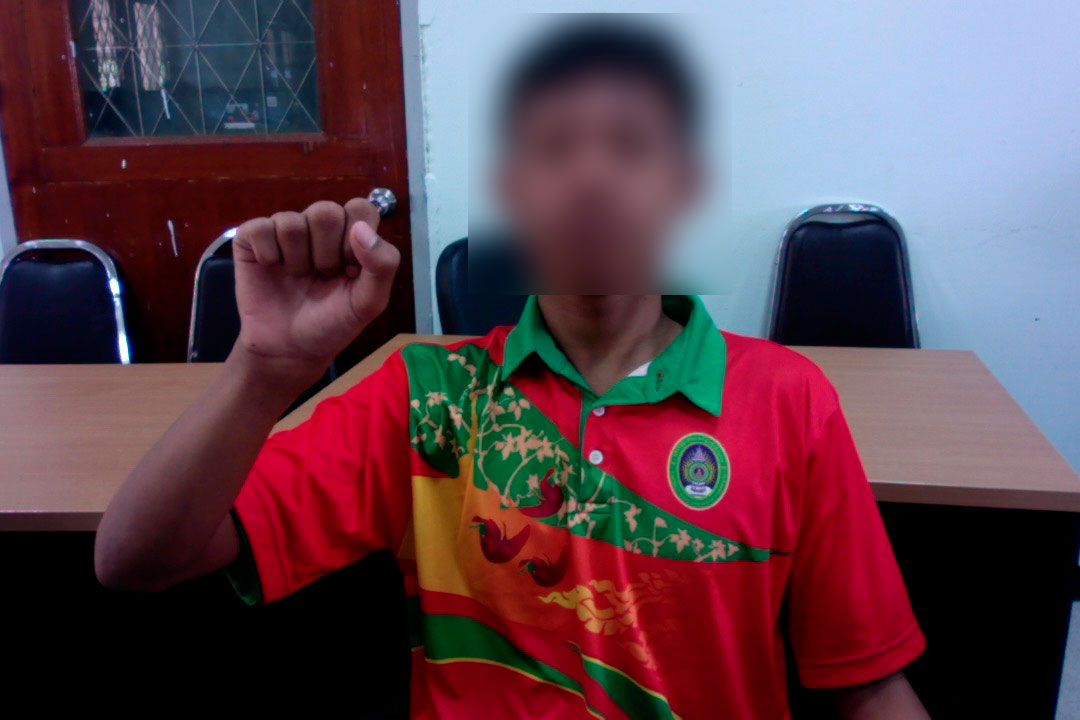sor: (221, 189, 406, 387)
